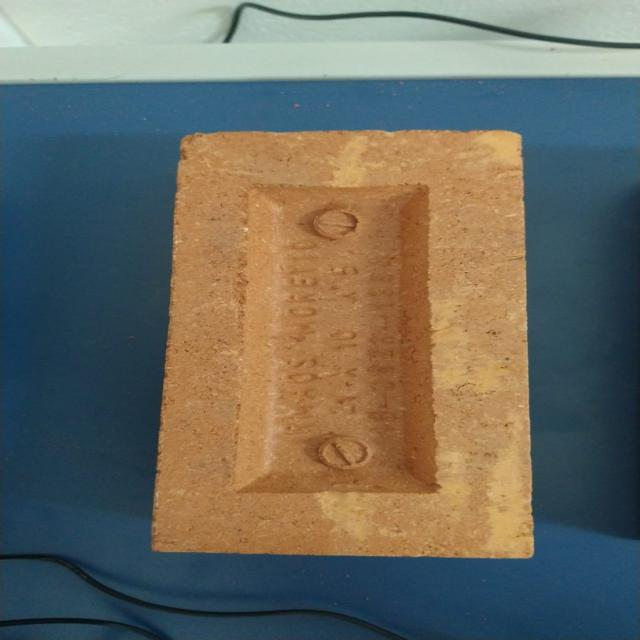bricks: (151, 129, 530, 560)
